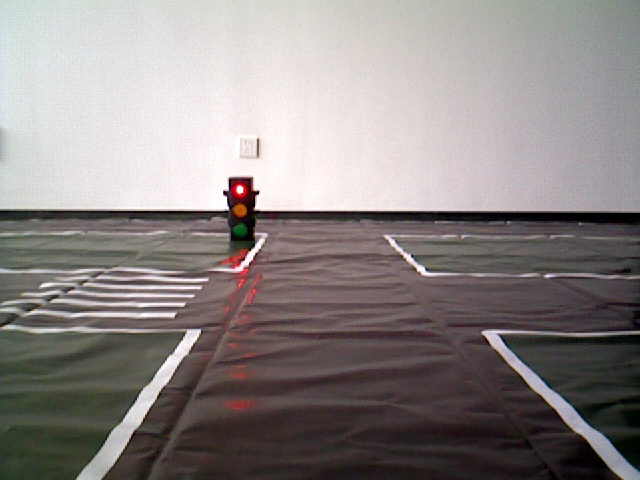red: (228, 178, 253, 245)
